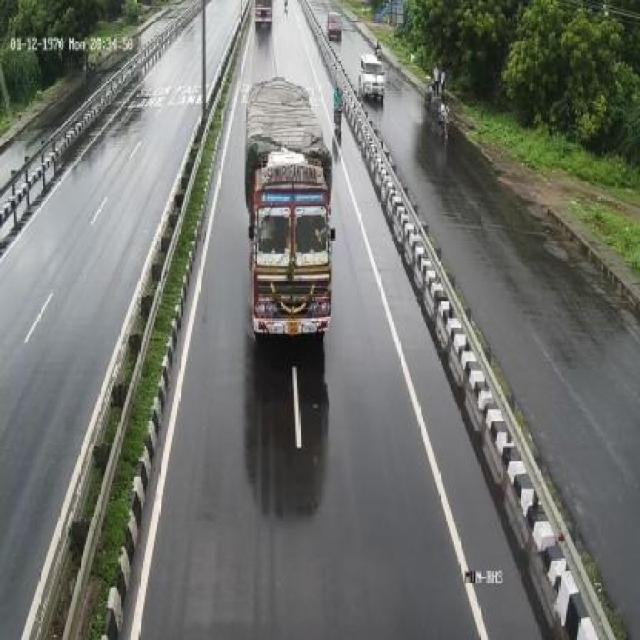car: (358, 54, 391, 104)
